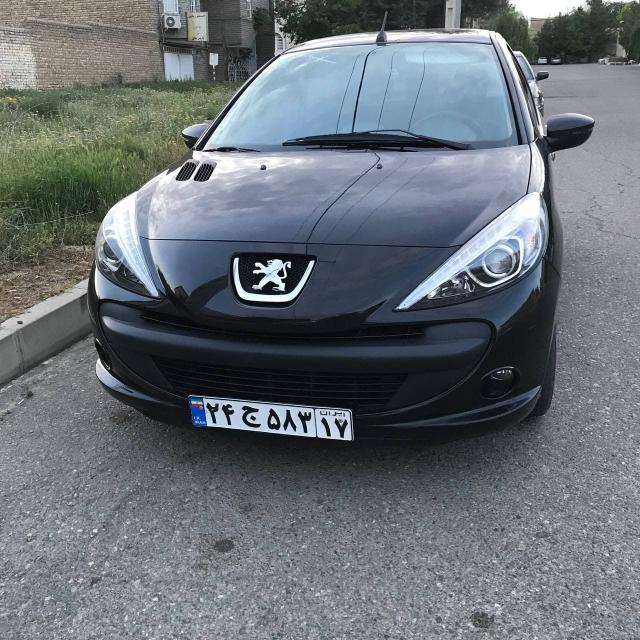Plates: (186, 396, 355, 441)
